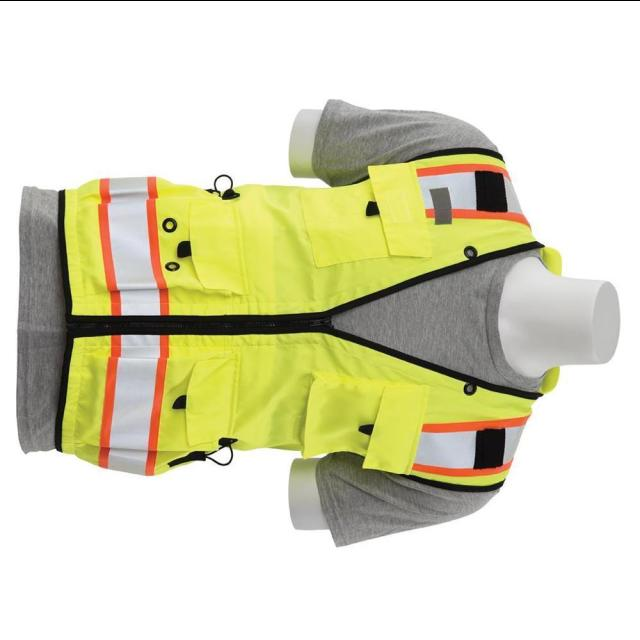jacket: (24, 128, 582, 550)
